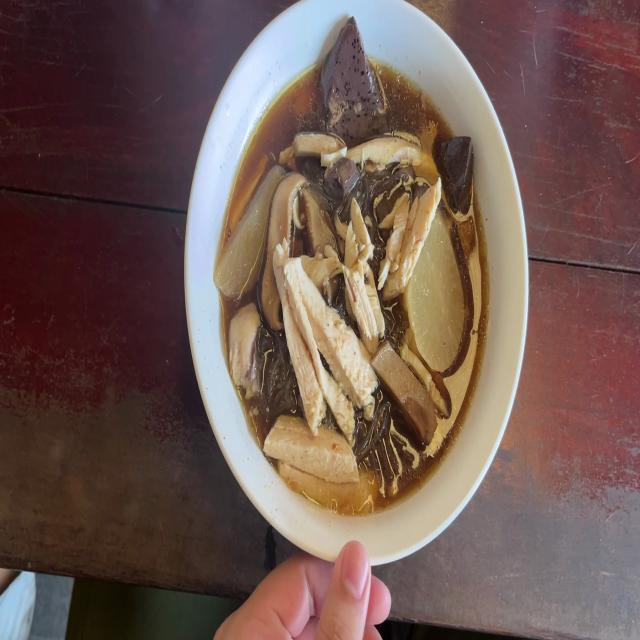noodle: (330, 23, 376, 138), (438, 126, 479, 208), (324, 162, 357, 197)
